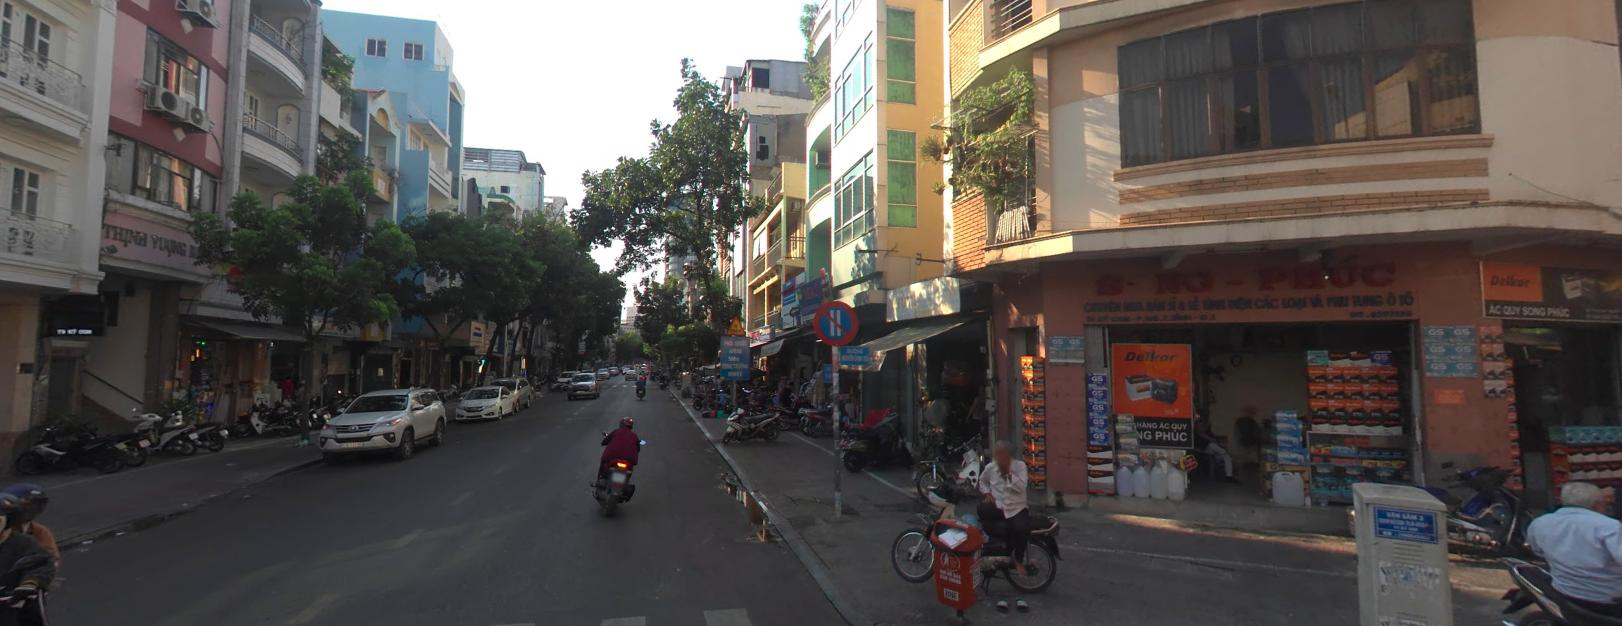Cam dung va do: (813, 299, 858, 342)
Nguy hiem: (726, 315, 745, 333)
